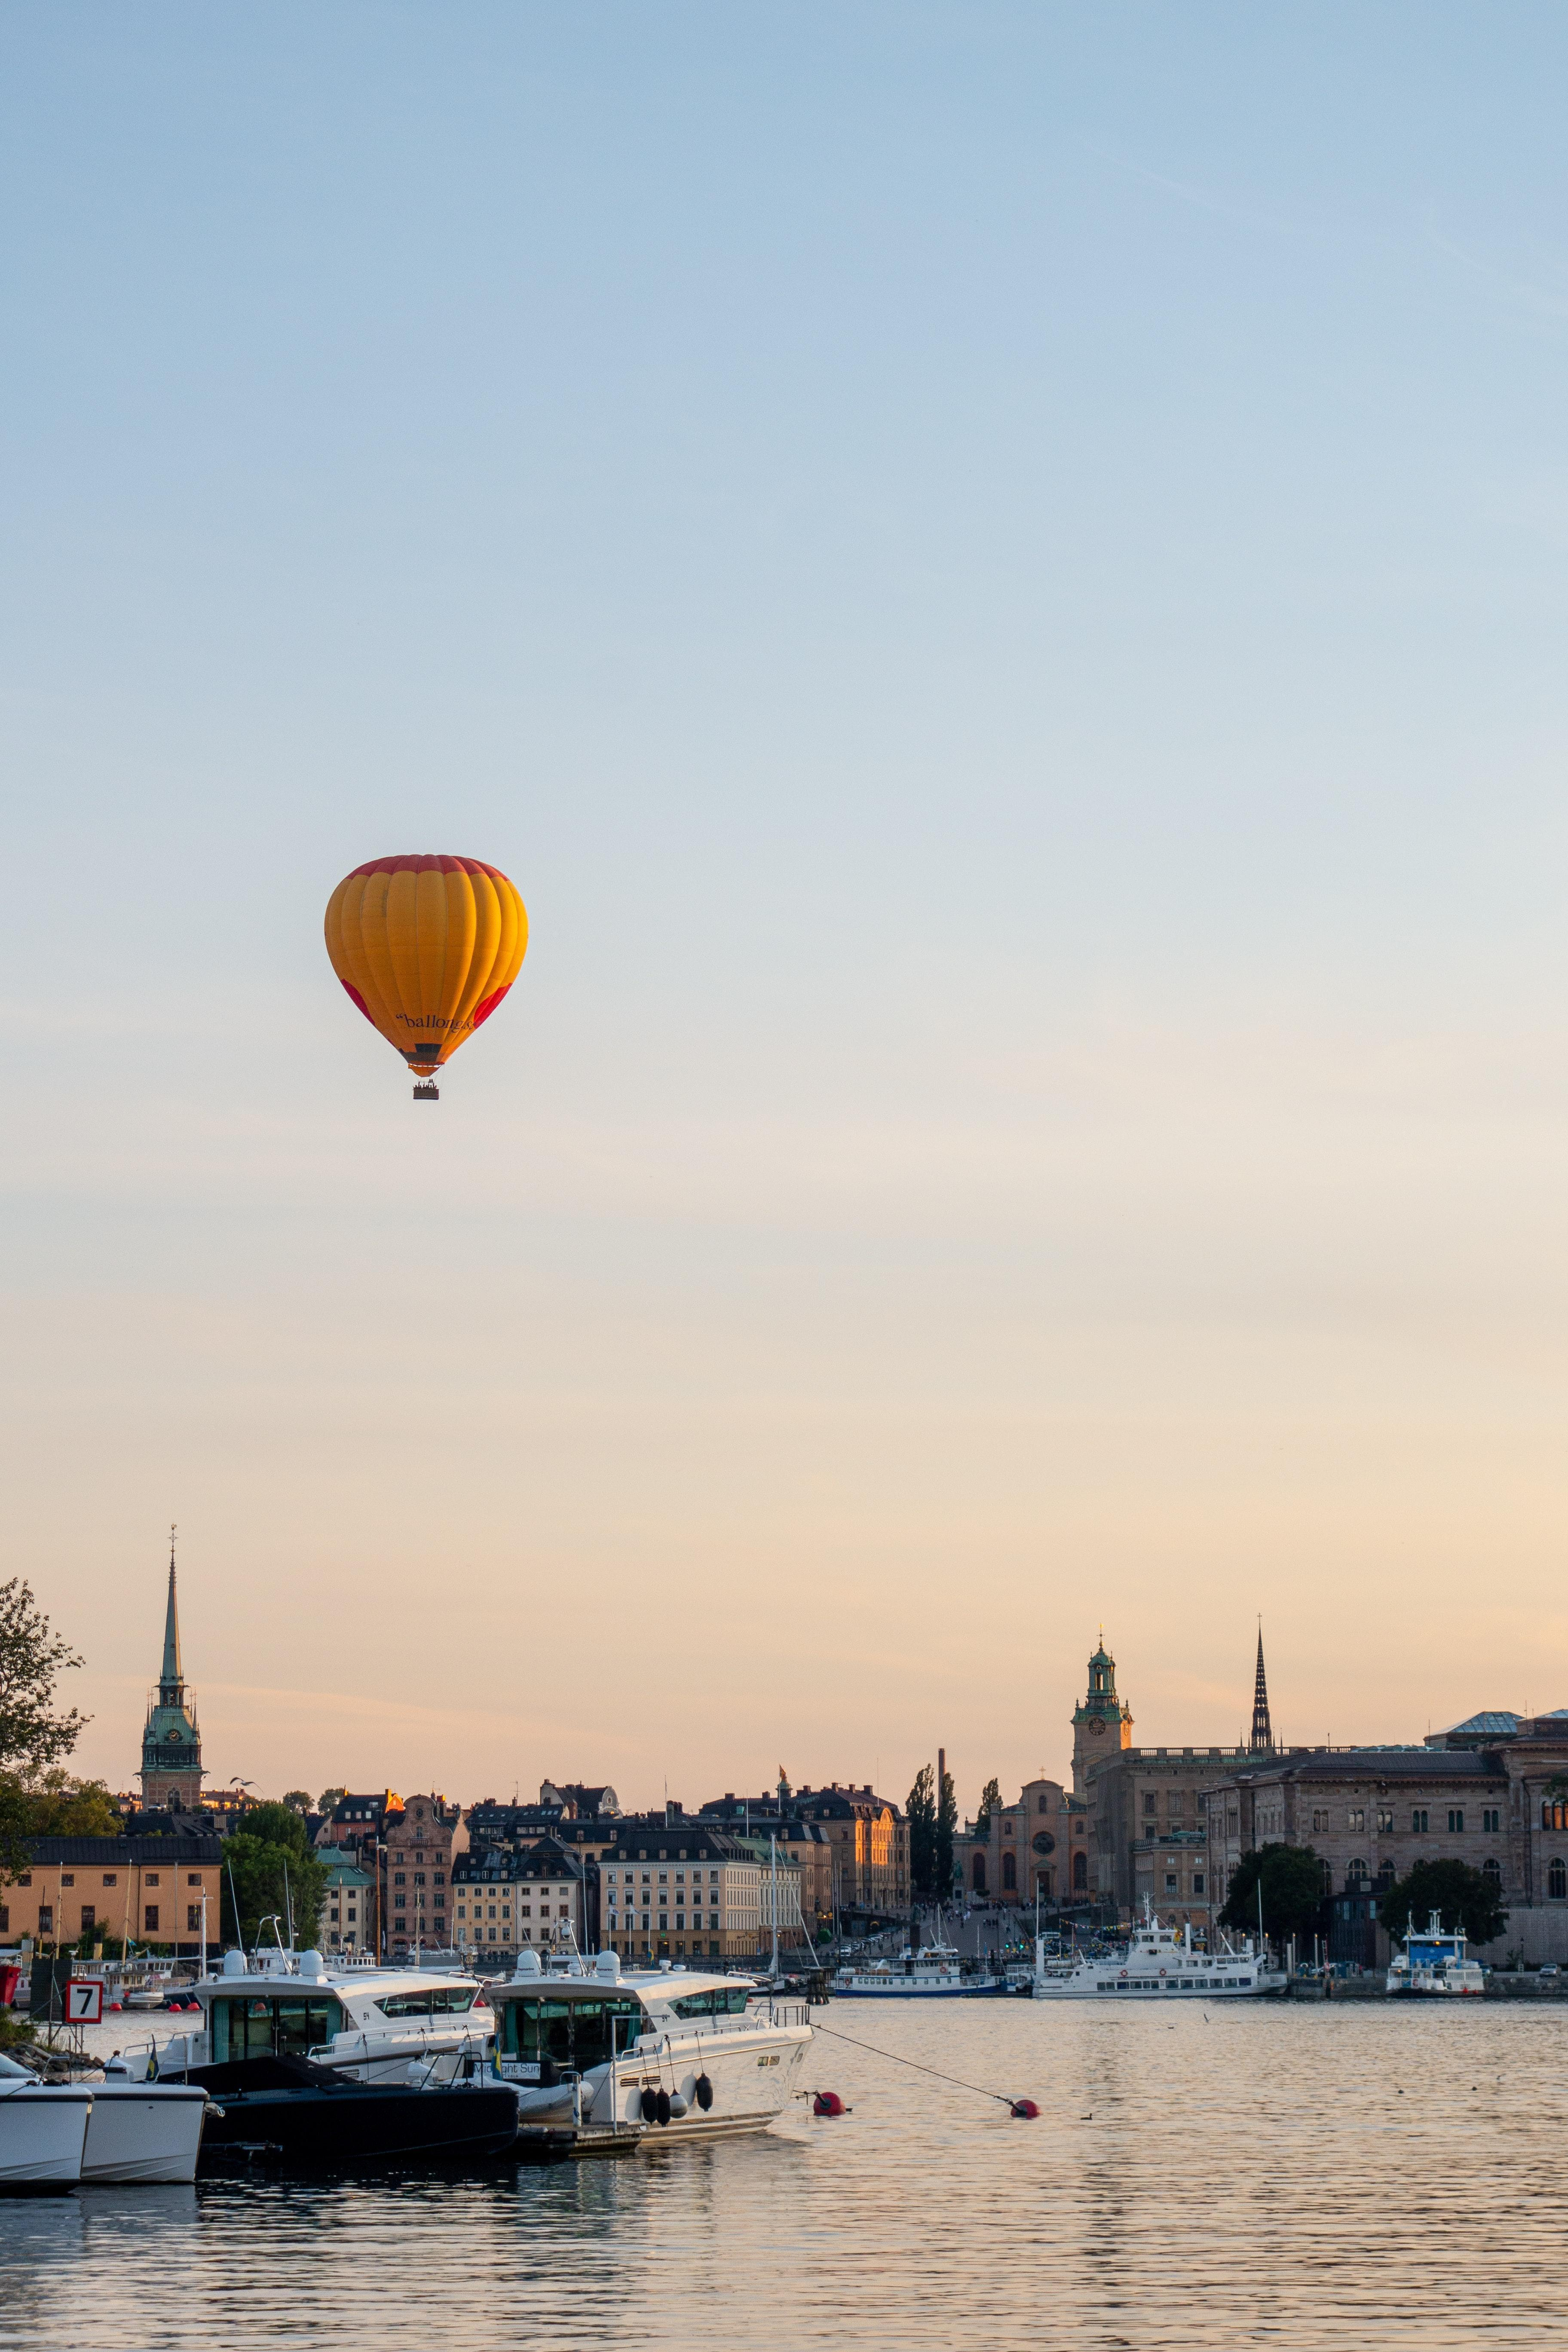hot air ballon: (322, 854, 530, 1101)
